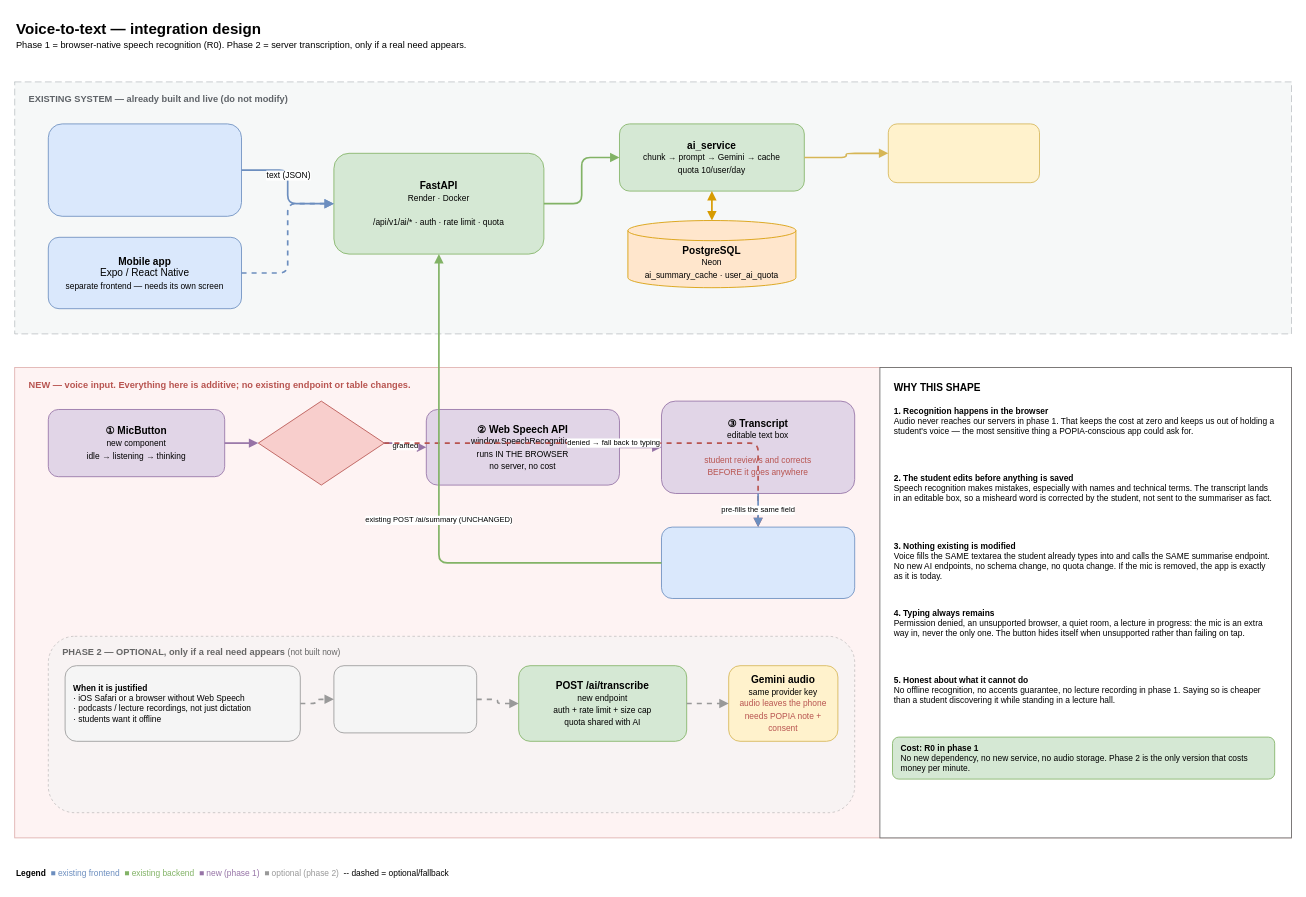
This 1306x897 diagram has some shape labels left out. Here are the shapes that lost their labels. From the top down, the centre of each, then its label:
the point at 144,169: Web app React + Vite Cloudflare Workers SummariesTab — paste or upload PDF/DOCX
the point at 963,153: Gemini gemini-flash-latest
the point at 320,442: Microphone permission browser prompt denied → typed input still works
the point at 758,562: Existing text input SummariesTab textarea UNCHANGED — voice only fills it
the point at 405,699: MediaRecorder client encodes audio short dictation only
